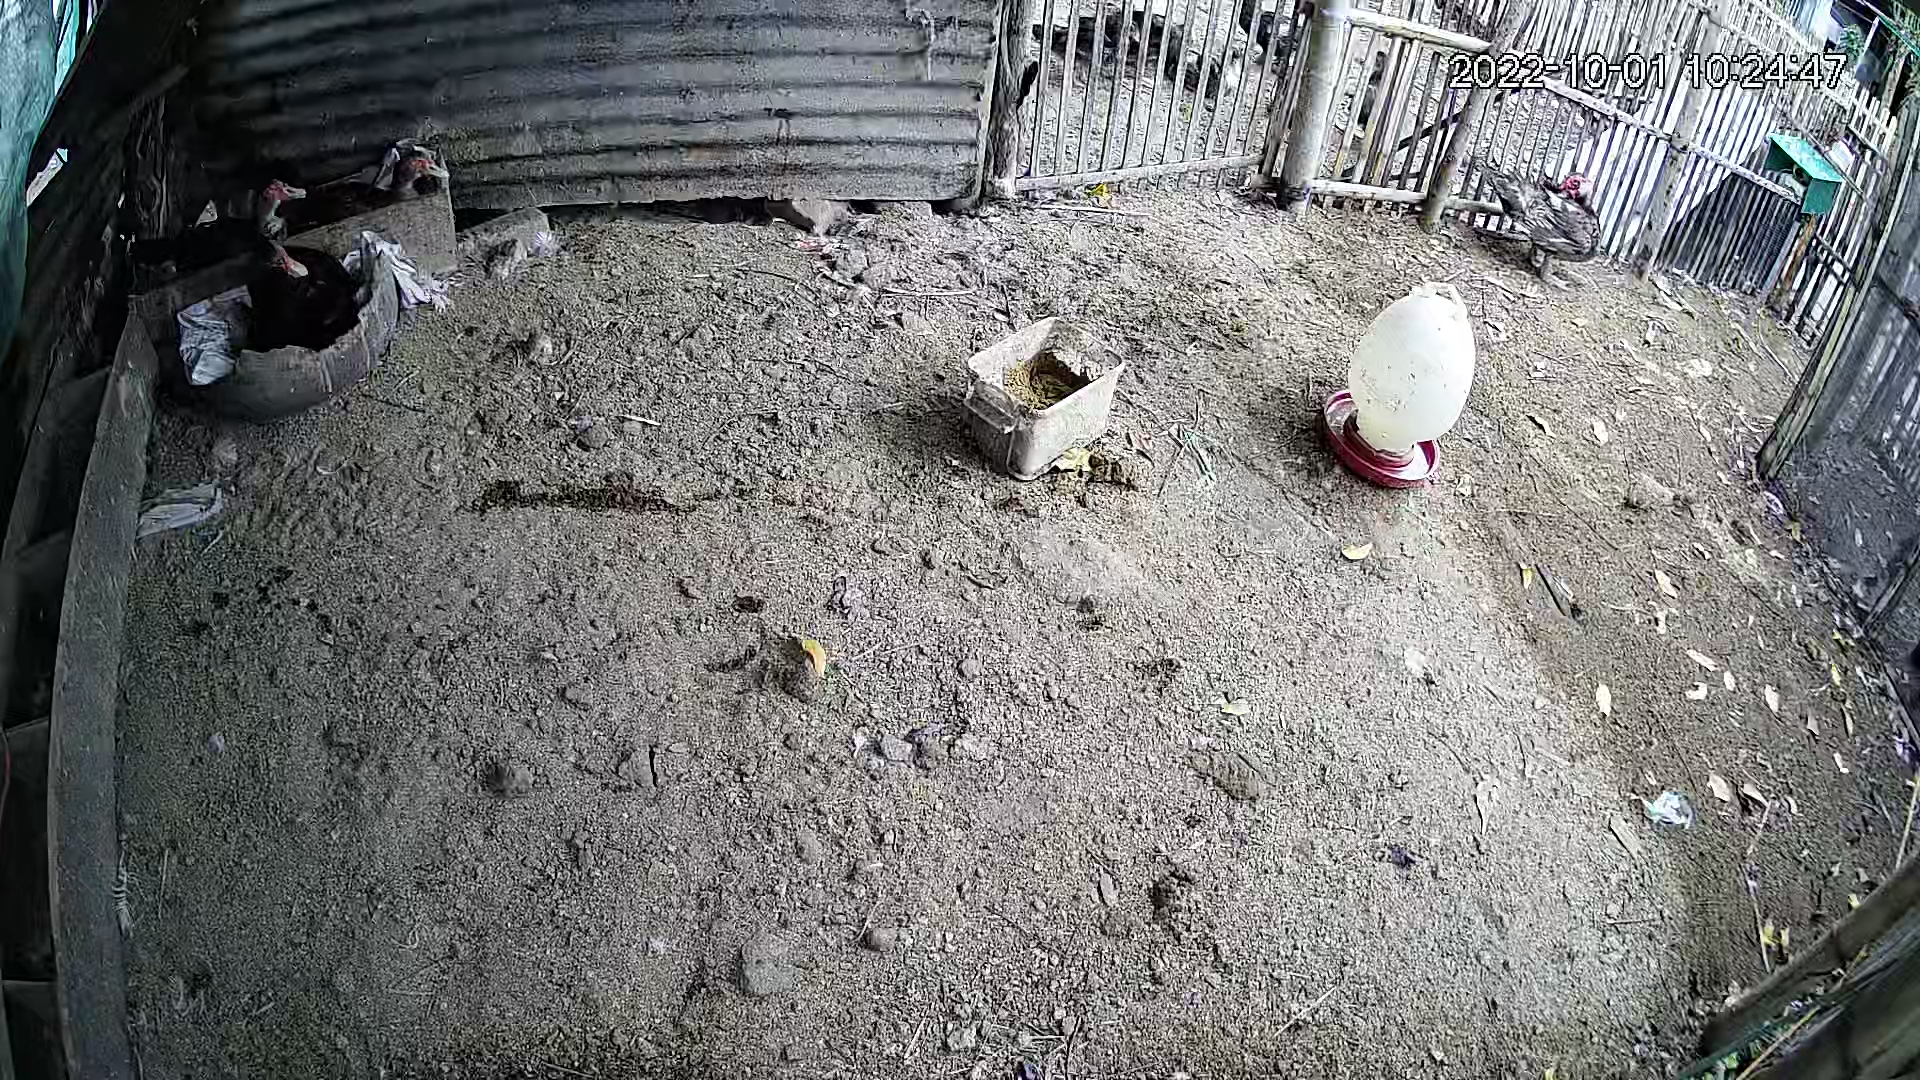Mengeram: (129, 129, 455, 398)
